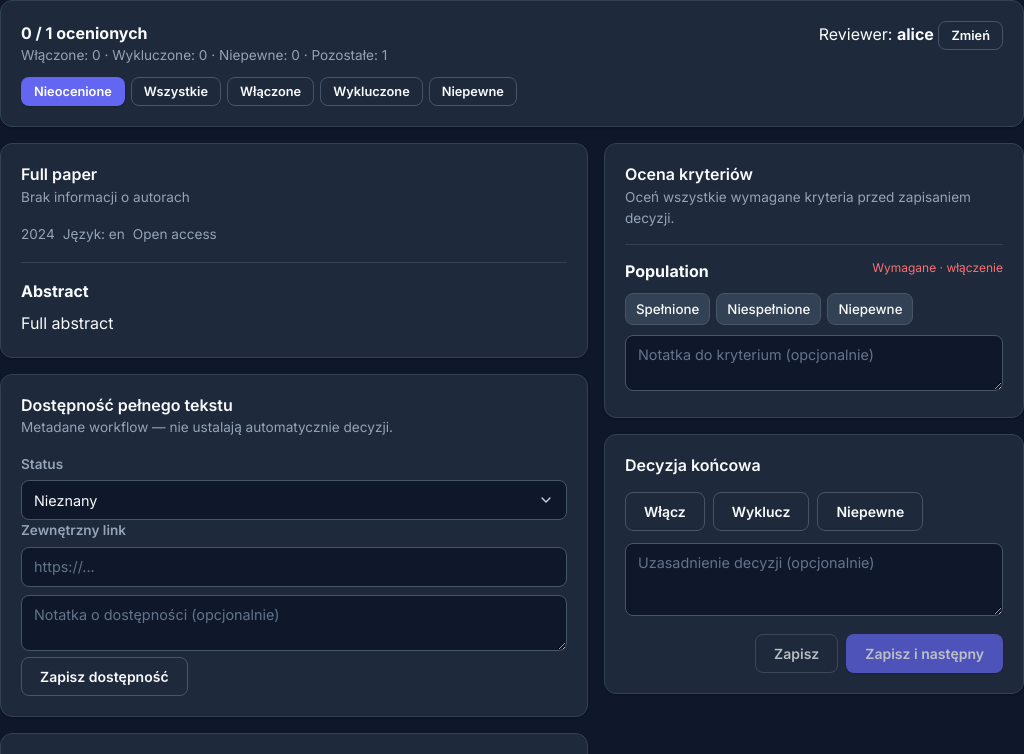
it: Full Text Screening GUI › renders eligible record, availability and only allows a valid structured exclusion reason
This screenshot has width=1024, height=754.
Check: the heading "Full paper" is shown, box [21,164,97,184]
Check: the heading "Dostępność pełnego tekstu" is shown, box [21,395,233,415]
Click the button "Wyklucz" at coordinates (761, 511), box [713,492,809,531]
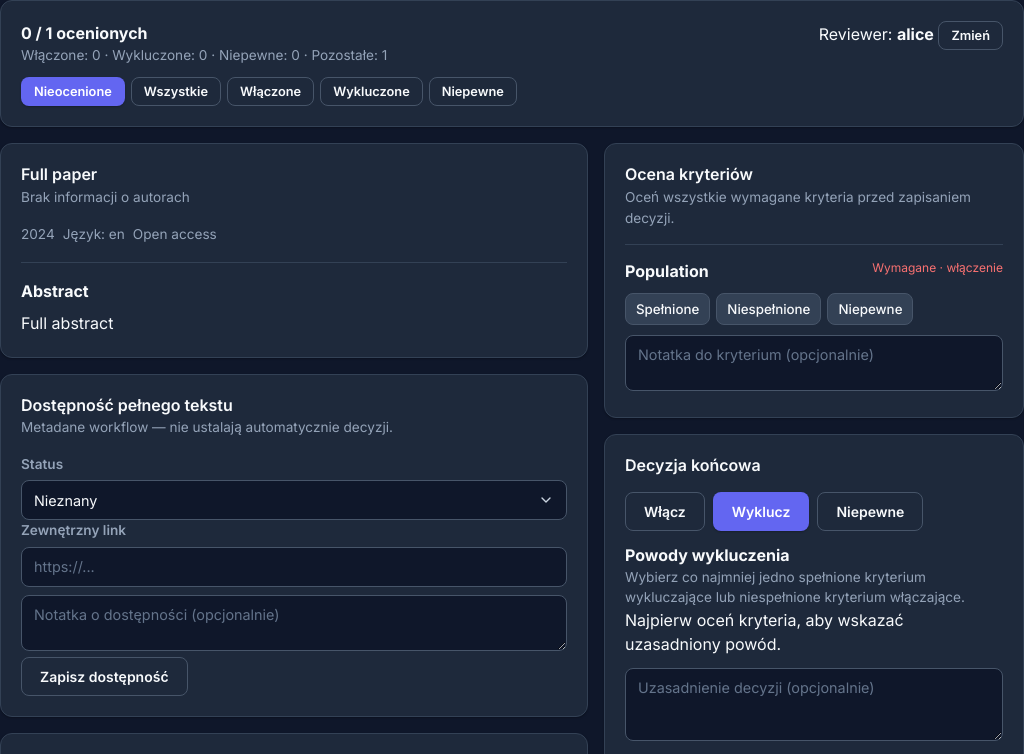
Check: the text "Najpierw oceń kryteria, aby wskazać uzasadniony powód." is shown, box [625,610,904,654]
